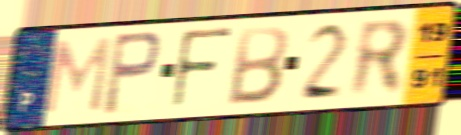2: (293, 22, 354, 103)
B: (224, 24, 292, 107)
F: (169, 26, 236, 113)
M: (40, 35, 114, 117)
P: (100, 28, 163, 118)
R: (348, 17, 411, 102)
